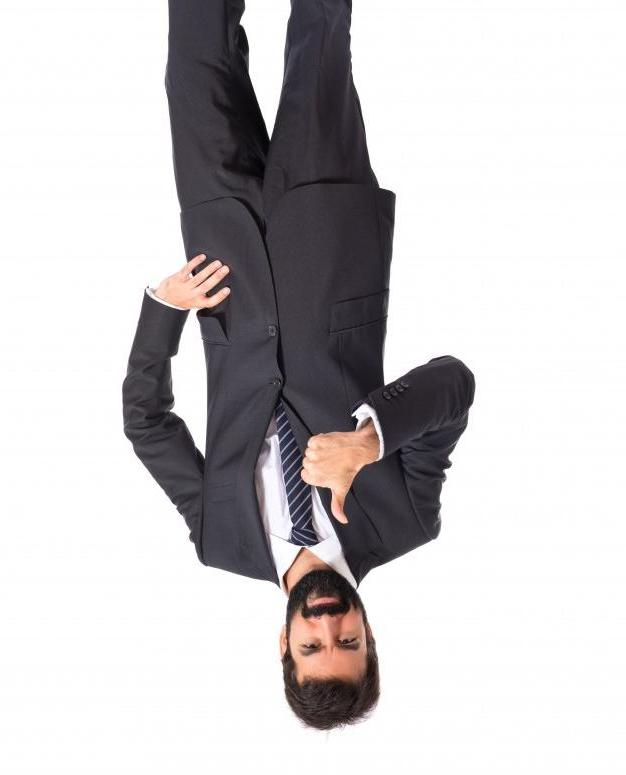thumbsdown: (301, 434, 349, 524)
